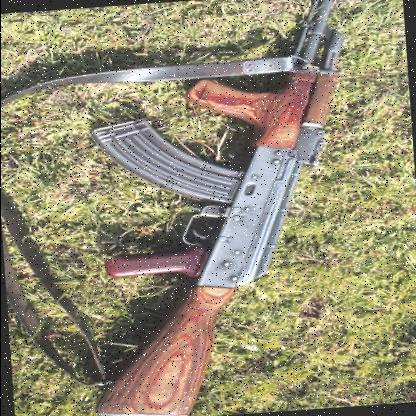rifle: (59, 0, 408, 416)
